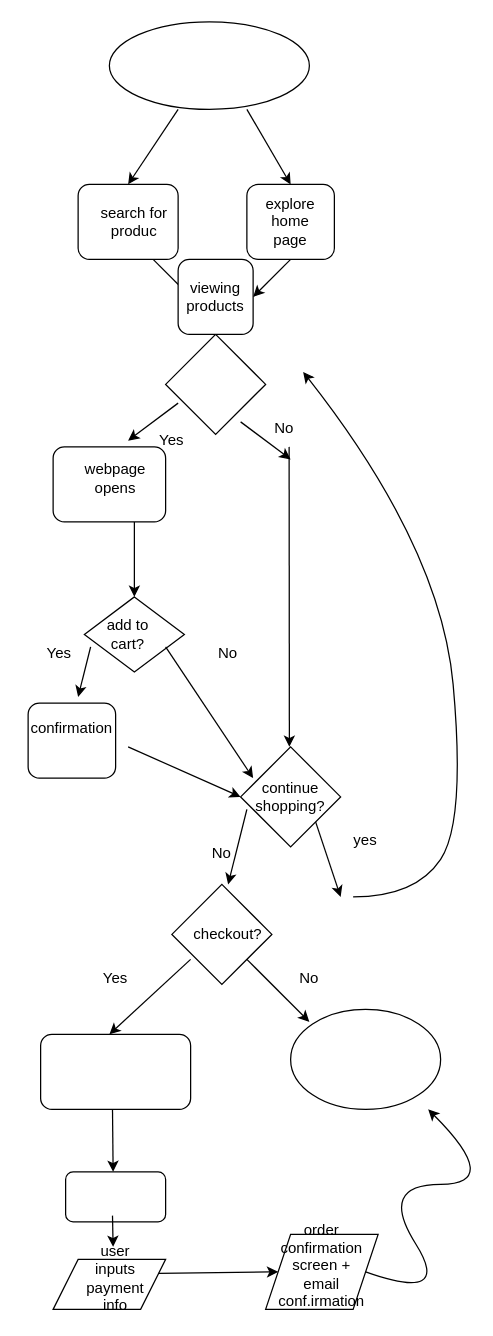
The diagram is 493 pixels wide and 1336 high, and some of its shapes have lost their labels. Here are the shapes that lost their labels. From the top down, the centre of each, then its label:
the point at 208,65: enter website
the point at 215,383: view specific product
the point at 115,1071: reach View cart screen
the point at 365,1058: leave website
the point at 115,1196: View patment screen
